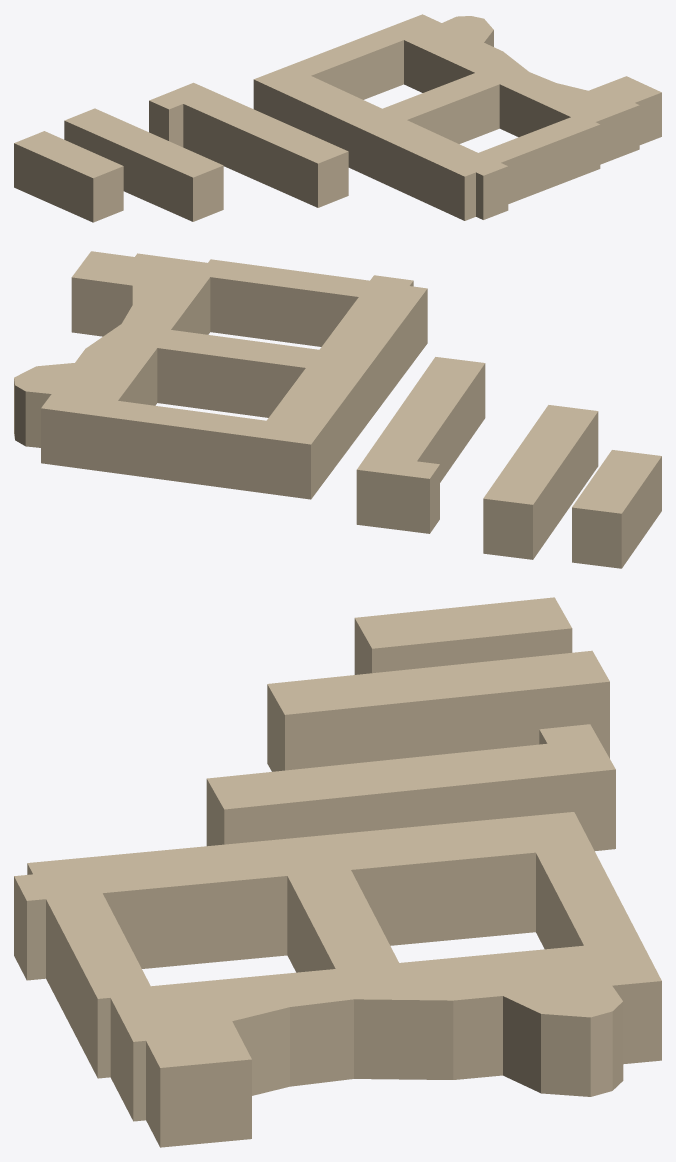
The model's file is -18_11-estimated-coarse.glb.
The picture shows the model from 3 angles, top to bottom: view 1: azimuth 30°, elevation 25°; view 2: azimuth 150°, elevation 25°; view 3: azimuth 270°, elevation 25°; orthographic projection. The views are drawn at different scales.
Size of the model in its own units: 190 by 15 by 111.
